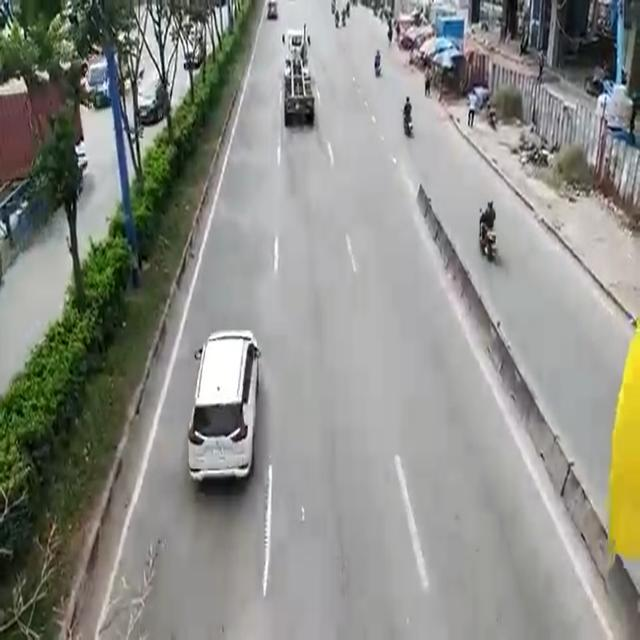car: (191, 334, 258, 490)
truck: (282, 24, 312, 124)
